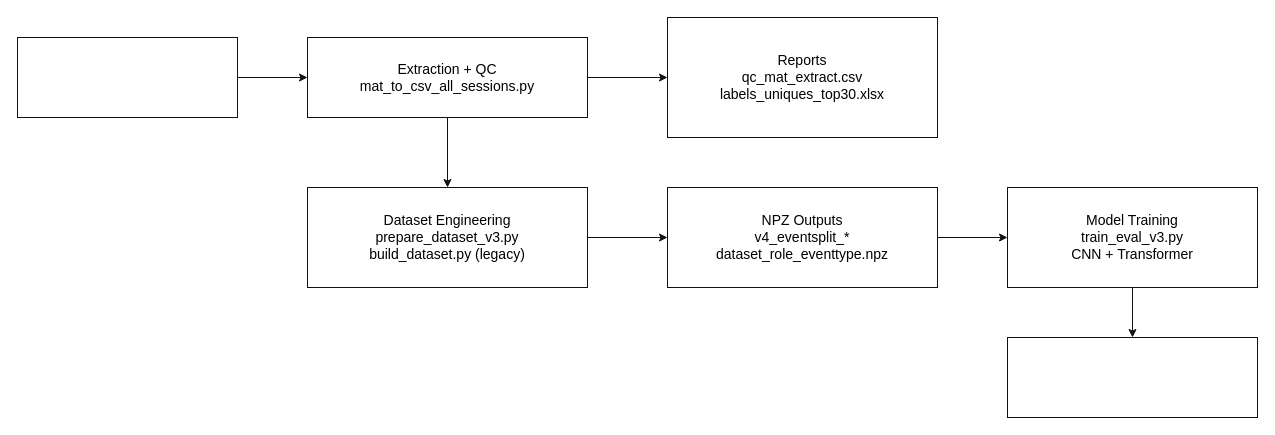
This 1275x435 diagram has some shape labels left out. Here are the shapes that lost their labels. From the top down, the centre of each, then its label:
the point at 127,77: Raw MAT Sessions sessionevents01..22.mat
the point at 1132,377: Deliverables metrics CSV + checkpoints
